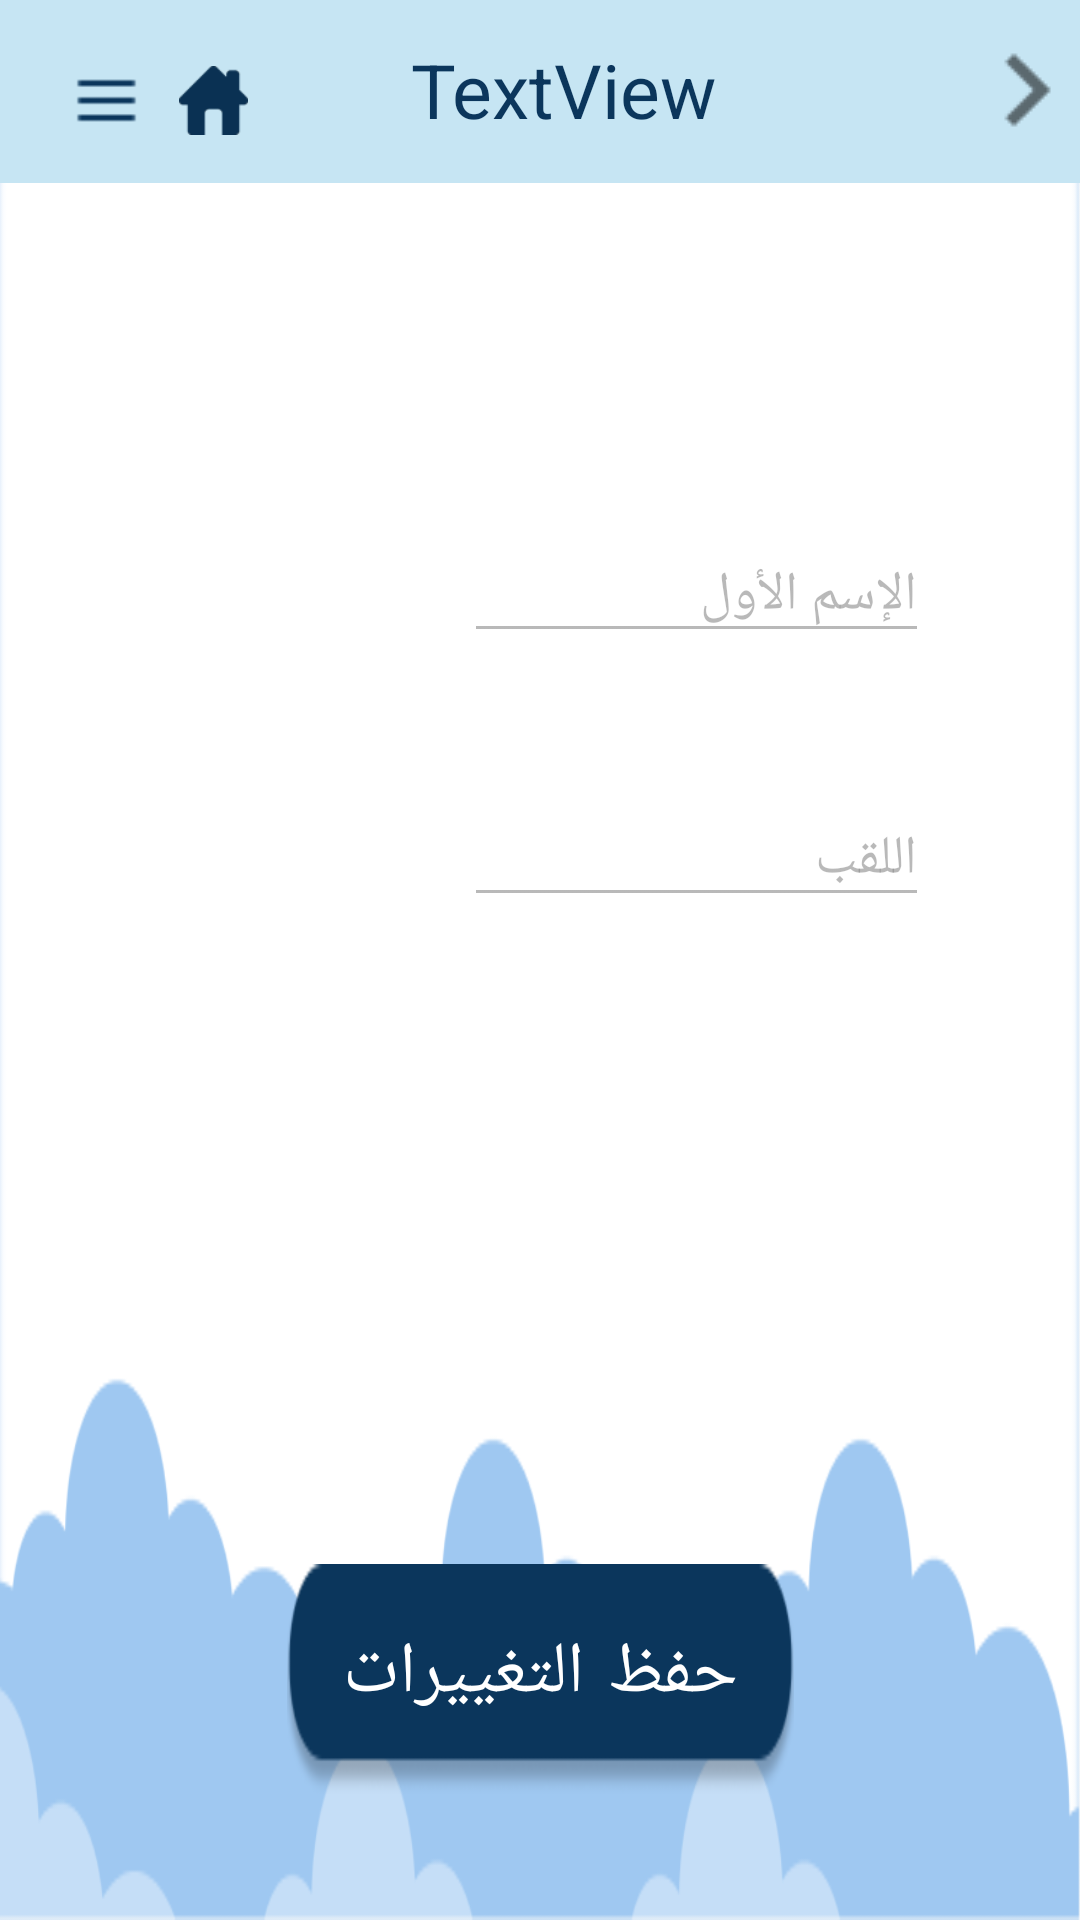

Icons on this 1080*1920 Android screen, each with the point to tap as point (x, y):
home: point (213, 100)
menu: point (106, 100)
